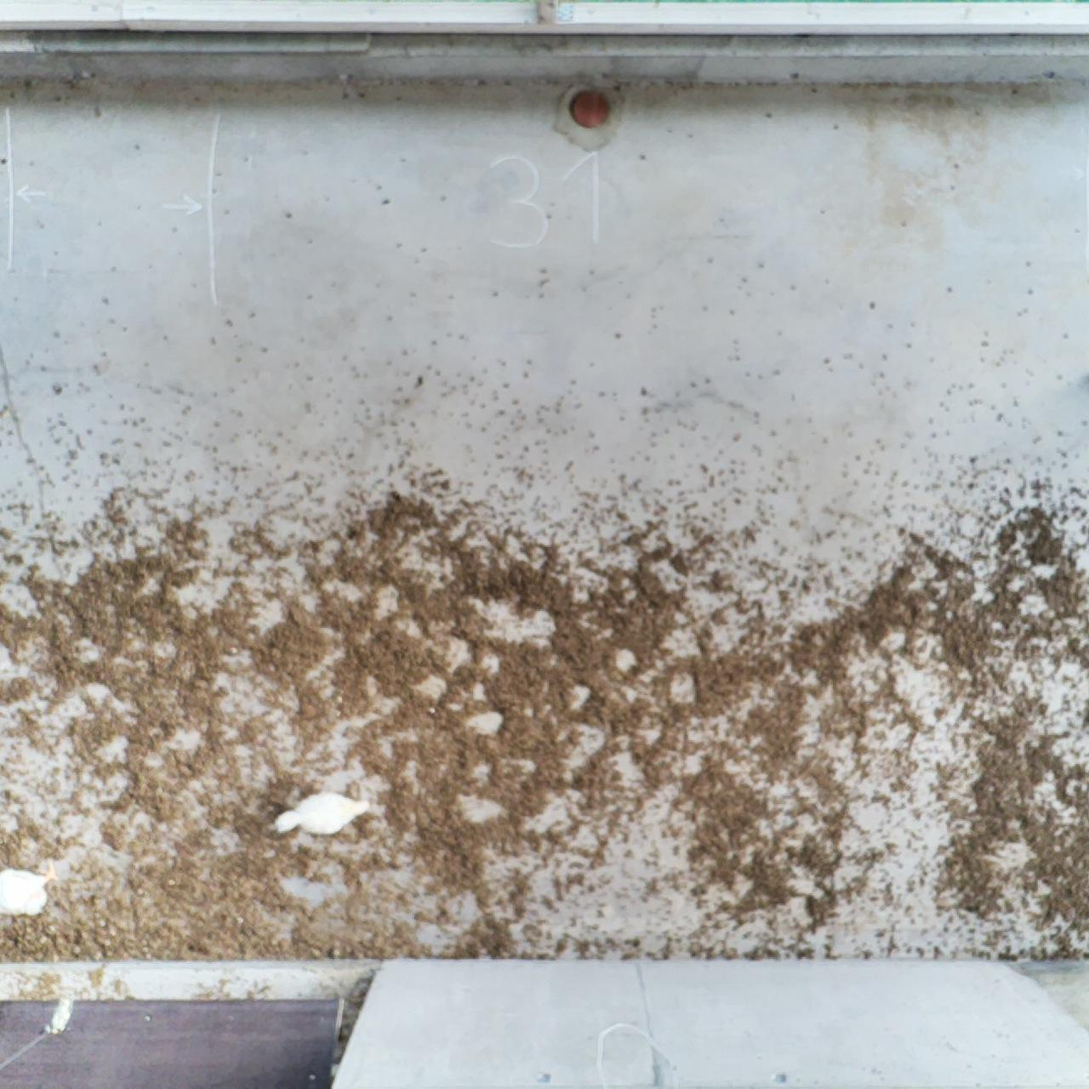chicken: (269, 789, 379, 840), (0, 862, 58, 923)
